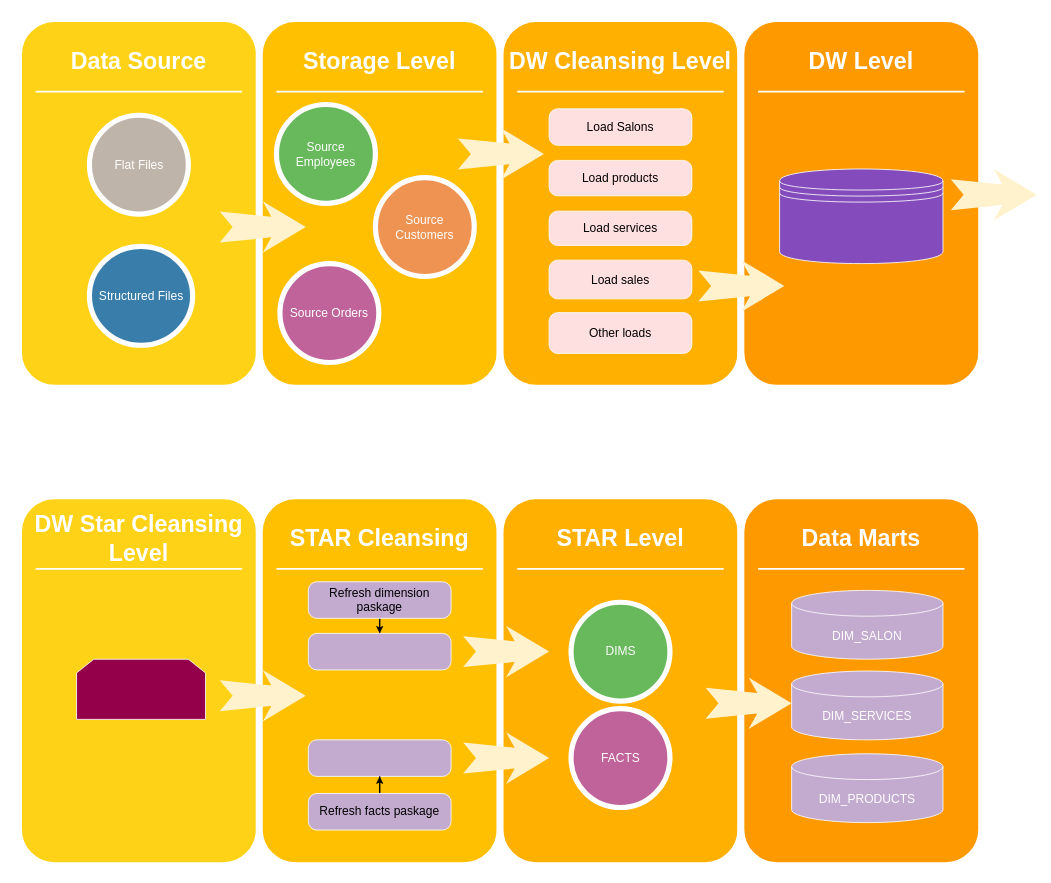
The diagram is 1051 pixels wide and 883 high, and some of its shapes have lost their labels. Here are the shapes that lost their labels. From the top down, the centre of each, then its label:
At (x=861, y=216): "Dimensions".
At (x=379, y=651): "Map dimension paskage".
At (x=141, y=688): "Loading paskages".
At (x=379, y=757): "Map facts paskage".
